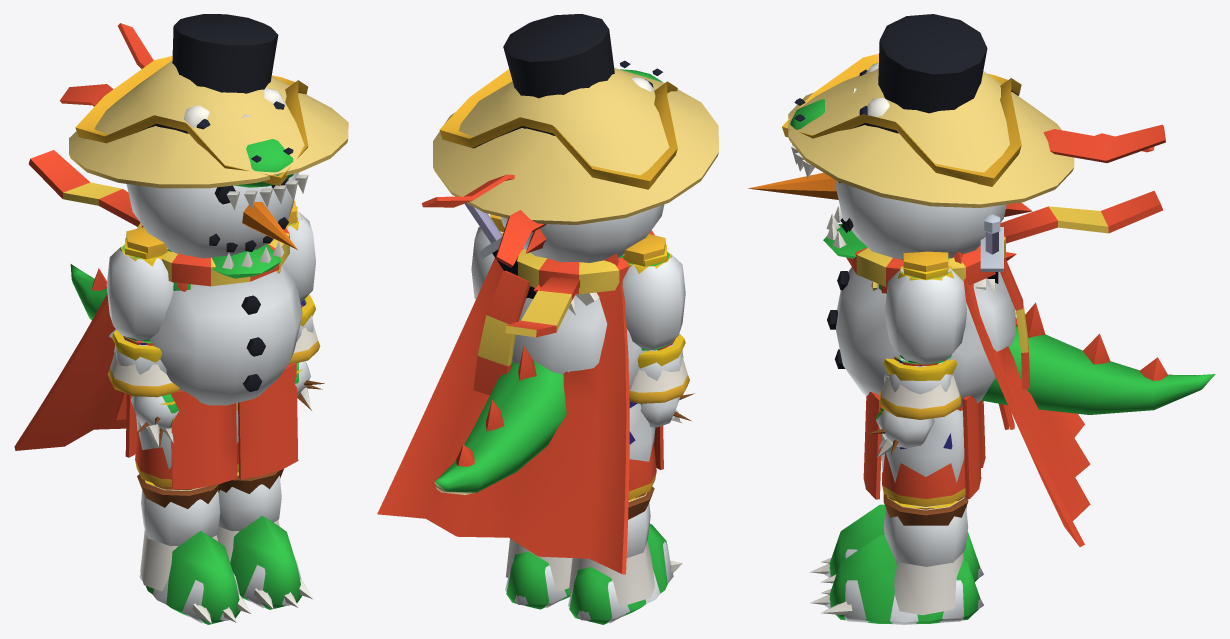
Rendered from costumes.glb.
3 renders of one model, left to right at view 1: azimuth 30°, elevation 25°; view 2: azimuth 150°, elevation 25°; view 3: azimuth 270°, elevation 25°, orthographic. The views are drawn at different scales.
Parts seen in each view (by area): view 1: snowman@Root, aodai@Root, hero@Root, aodai@HipL, dino@Root, aodai@HipR, pirate@Root, dino@KneeL, dino@KneeR, snowman@ArmL, snowman@KneeL, snowman@KneeR (+13 smaller); view 2: hero@Root, aodai@Root, snowman@Root, dino@Root, pirate@Root, snowman@ArmL, ninja@Root, dino@KneeL, aodai@KneeL, dino@KneeR, snowman@KneeL, pirate@ElbowL (+7 smaller); view 3: snowman@Root, aodai@Root, dino@Root, hero@Root, snowman@ArmR, pirate@Root, dino@KneeR, snowman@KneeR, ninja@Root, aodai@HipR, aodai@KneeR, snowman@HipR (+6 smaller).
Boxes of the visible parts, <box> form: snowman@Root: <box>28,14,302,405</box>; aodai@Root: <box>69,60,348,273</box>; hero@Root: <box>14,206,297,450</box>; aodai@HipL: <box>125,390,237,489</box>; dino@Root: <box>70,88,308,320</box>; aodai@HipR: <box>238,362,298,479</box>; pirate@Root: <box>75,56,308,291</box>; dino@KneeL: <box>146,531,251,624</box>; dino@KneeR: <box>230,516,312,609</box>; snowman@ArmL: <box>106,245,173,340</box>; snowman@KneeL: <box>139,490,239,623</box>; snowman@KneeR: <box>218,476,301,608</box>; hero@Root: <box>377,214,666,574</box>; aodai@Root: <box>433,68,718,224</box>; snowman@Root: <box>473,14,664,395</box>; dino@Root: <box>434,60,662,494</box>; pirate@Root: <box>439,66,677,315</box>; snowman@ArmL: <box>622,251,685,350</box>; ninja@Root: <box>422,174,546,298</box>; dino@KneeL: <box>569,523,682,624</box>; aodai@KneeL: <box>569,541,654,605</box>; dino@KneeR: <box>506,551,570,609</box>; snowman@KneeL: <box>568,503,673,623</box>; pirate@ElbowL: <box>629,339,689,403</box>; snowman@Root: <box>748,14,1162,406</box>; aodai@Root: <box>788,68,1074,290</box>; dino@Root: <box>788,63,1215,414</box>; hero@Root: <box>904,251,1090,546</box>; snowman@ArmR: <box>884,268,966,364</box>; pirate@Root: <box>782,53,1021,294</box>; dino@KneeR: <box>810,535,979,623</box>; snowman@KneeR: <box>824,507,983,624</box>; ninja@Root: <box>957,124,1165,429</box>; aodai@HipR: <box>863,392,981,499</box>; aodai@KneeR: <box>894,504,963,615</box>; snowman@HipR: <box>881,409,964,482</box>.
Size of the model in its own units: 1.08 by 2.33 by 1.73.
